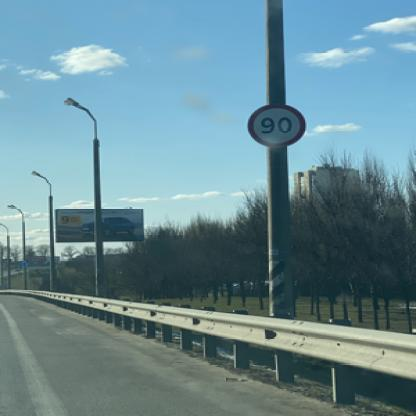Speed Limit 90: (248, 102, 306, 146)
